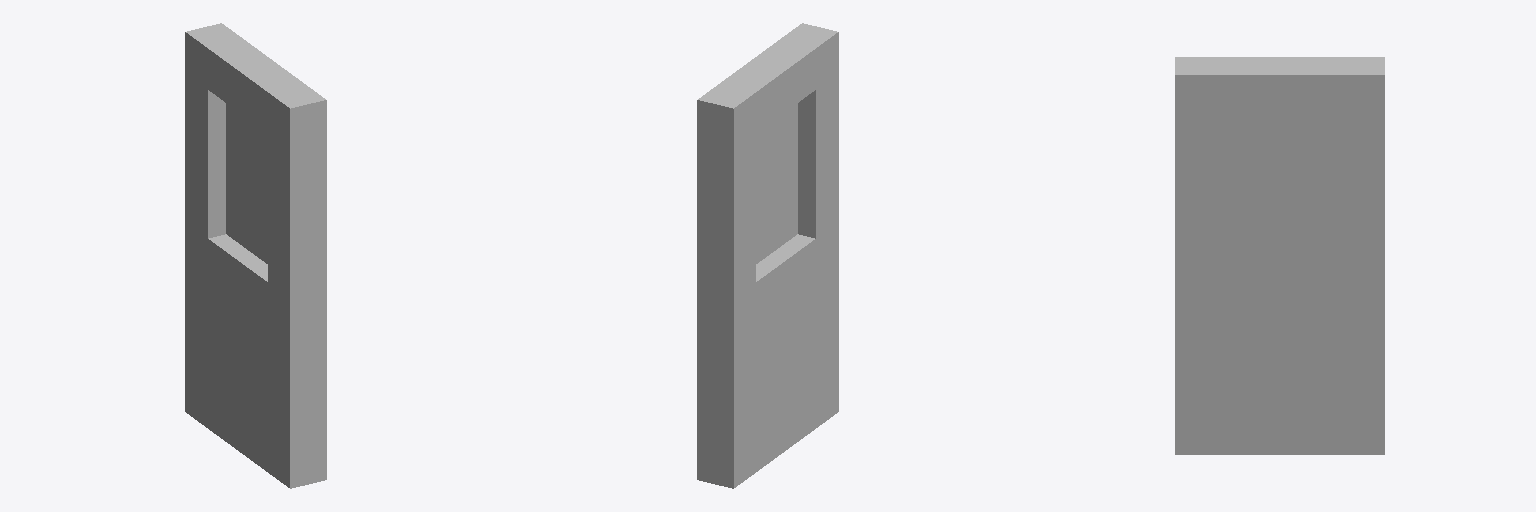
3 views of the same model, side by side, from view 1: azimuth 30°, elevation 25°; view 2: azimuth 150°, elevation 25°; view 3: azimuth 270°, elevation 25° (orthographic).
Visible parts, largest first — view 1: G-__556221_G-__556221_Metal, G-__556221_G-__556221_Glass; view 2: G-__556221_G-__556221_Metal, G-__556221_G-__556221_Glass; view 3: G-__556221_G-__556221_Metal.
Part boxes in pixels (bbox=[...]): G-__556221_G-__556221_Metal: bbox=[185, 23, 326, 488]; G-__556221_G-__556221_Glass: bbox=[226, 103, 267, 263]; G-__556221_G-__556221_Metal: bbox=[697, 23, 838, 488]; G-__556221_G-__556221_Glass: bbox=[756, 103, 797, 263]; G-__556221_G-__556221_Metal: bbox=[1175, 57, 1384, 454].
Bounding box in the file's own units: 0.05 × 0.5 × 0.25.